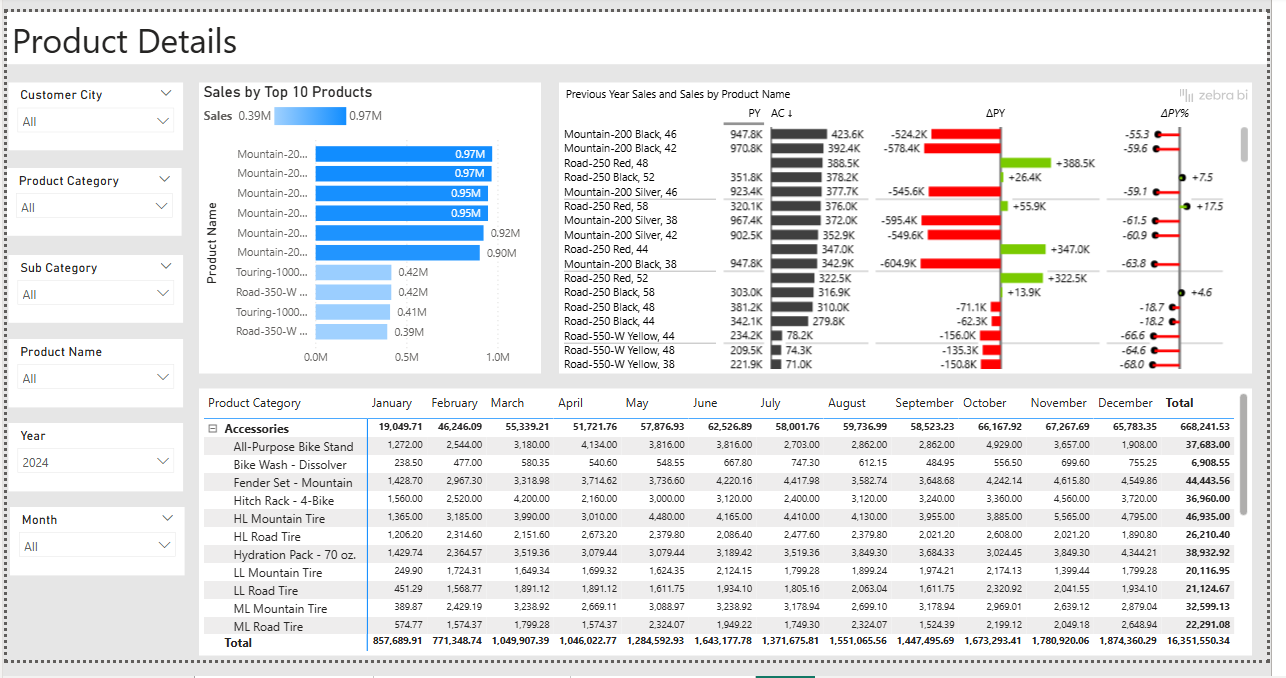

The page's visual inventory and layout, read from the dashboard file:
{"tool":"powerbi","page":{"name":"Product Details","canvas":[1400,720],"ordinal":2},"visuals":[{"type":"textbox","box":[0,0,1500,58],"z":0},{"type":"slicer","fields":{"Values":["DIM_Customers.Customer City"]},"box":[2,78,194,75],"z":1000},{"type":"slicer","fields":{"Values":["Dim_Products.Product Category"]},"box":[0,174,194,75],"z":2000},{"type":"slicer","fields":{"Values":["Dim_Products.Sub Category"]},"box":[2,270,194,75],"z":3000},{"type":"slicer","fields":{"Values":["Dim_Products.Product Name"]},"box":[1.7,363.8,194,75.9],"z":4000},{"type":"slicer","fields":{"Values":["Dim_Calendar.Year"]},"box":[1.7,456.9,194,75.9],"z":5000},{"type":"slicer","fields":{"Values":["Dim_Calendar.Month"]},"box":[3.4,550,194,75.9],"z":6000},{"type":"ZebraBITablesBAE31B370F254F808553548EFB35BFA5","fields":{"Values":["Key Measures.Previous Year Sales"],"PreviousYear":["Key Measures.Sales"],"Category":["Dim_Products.Product Name"]},"box":[613.3,78.3,770,323.3],"z":8000},{"type":"pivotTable","fields":{"Values":["Key Measures.Sales"],"Columns":["Dim_Calendar.Month"],"Rows":["Dim_Products.Product Category","Dim_Products.Product Name"]},"box":[213.3,418.3,1170,296.7],"z":9000},{"type":"barChart","title":"Sales by Top 10 Products","fields":{"Y":["Key Measures.Sales"],"Category":["Dim_Products.Product Name"]},"box":[213.3,78.3,380,323.3],"z":9001}]}

Visuals, with their boxes in screenshot pixels (x1, y1, x2, y2), scaled from the page's 1400x720 canvas onto the 1286x678 screenshot:
textbox: <bbox>0, 0, 1285, 55</bbox>
slicer - DIM_Customers.Customer City: <bbox>2, 73, 180, 144</bbox>
slicer - Dim_Products.Product Category: <bbox>0, 164, 178, 234</bbox>
slicer - Dim_Products.Sub Category: <bbox>2, 254, 180, 325</bbox>
slicer - Dim_Products.Product Name: <bbox>2, 343, 180, 414</bbox>
slicer - Dim_Calendar.Year: <bbox>2, 430, 180, 502</bbox>
slicer - Dim_Calendar.Month: <bbox>3, 518, 181, 589</bbox>
ZebraBITablesBAE31B370F254F808553548EFB35BFA5 - Key Measures.Previous Year Sales x Key Measures.Sales: <bbox>563, 74, 1271, 378</bbox>
pivotTable - Key Measures.Sales x Dim_Calendar.Month: <bbox>196, 394, 1271, 673</bbox>
"Sales by Top 10 Products" barChart: <bbox>196, 74, 545, 378</bbox>
